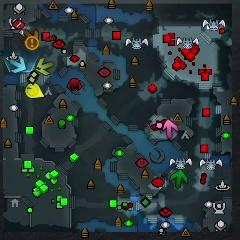Other: (25, 36, 39, 50)
p4: (25, 83, 45, 98)
x1: (161, 119, 178, 138)
x2: (36, 58, 54, 75)
x3: (9, 56, 26, 73)
x4: (170, 169, 188, 188)
x5: (23, 29, 39, 44)
